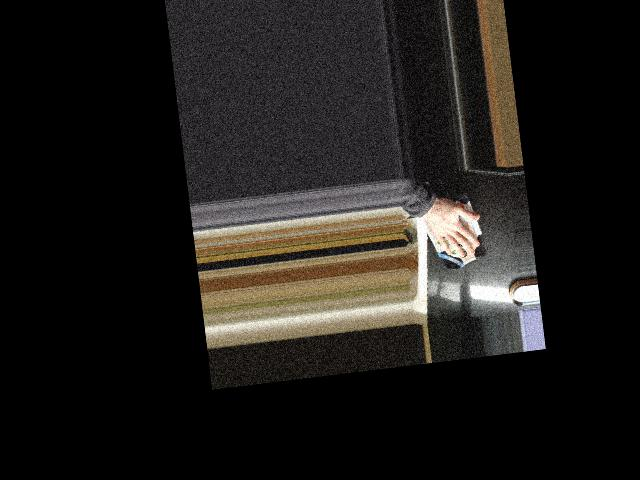cheese: (416, 190, 490, 274)
